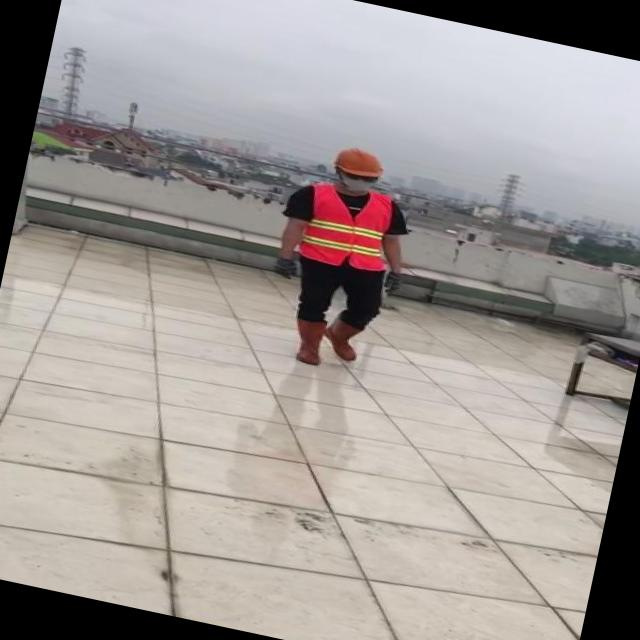hard_hat: (324, 140, 390, 183)
safety_vest: (298, 180, 402, 274)
vehicle: (250, 135, 436, 385)
work_boots: (282, 315, 329, 367), (319, 314, 366, 364)
